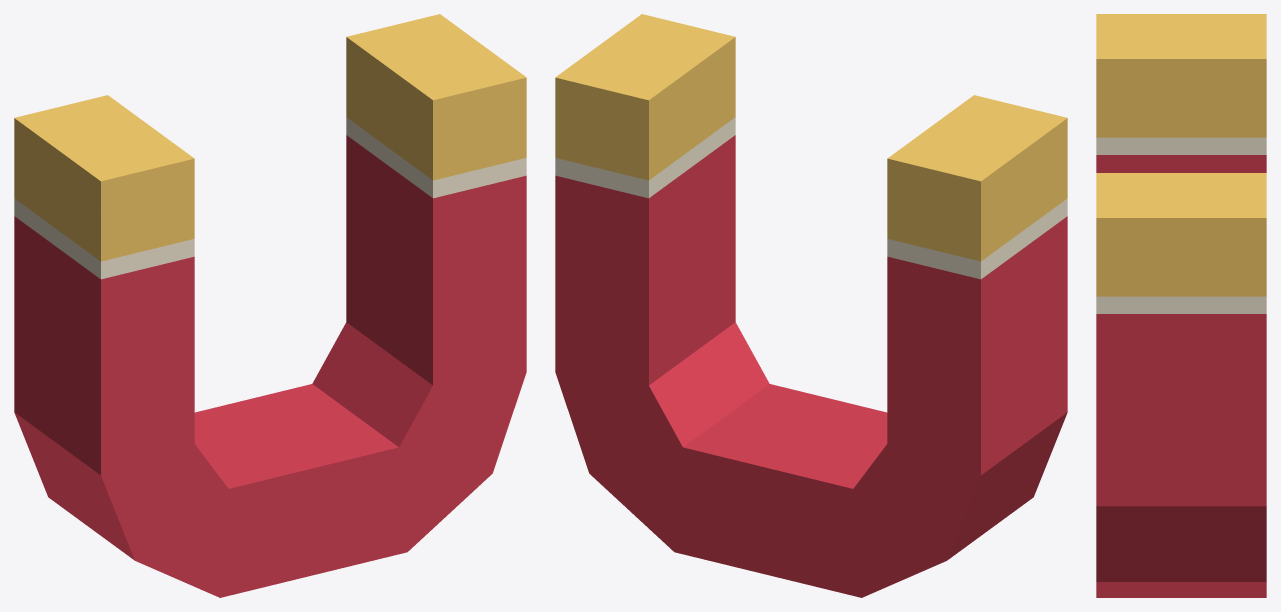
The model's file is powerup-magnet.glb.
3 views of the same model, side by side, from view 1: azimuth 30°, elevation 25°; view 2: azimuth 150°, elevation 25°; view 3: azimuth 270°, elevation 25° (orthographic).
Visible parts, largest first — view 1: powerup_magnet; view 2: powerup_magnet; view 3: powerup_magnet.
Part boxes in pixels (x1,y1,x2,y2): powerup_magnet: [14, 14, 526, 597]; powerup_magnet: [555, 14, 1067, 597]; powerup_magnet: [1096, 14, 1266, 597].
Bounding box in the file's own units: 0.85 × 0.85 × 0.3.
